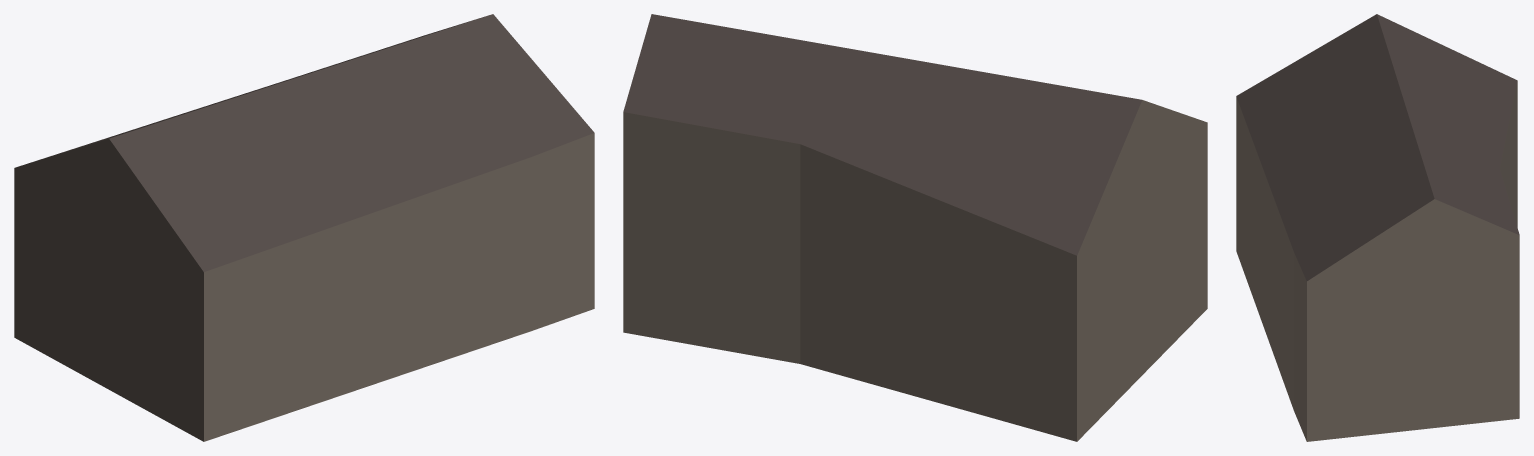
The picture shows the model from 3 angles, left to right: view 1: azimuth 30°, elevation 25°; view 2: azimuth 150°, elevation 25°; view 3: azimuth 270°, elevation 25°; orthographic projection. The views are drawn at different scales.
Parts seen in each view (by area): view 1: HP-w293398943; view 2: HP-w293398943; view 3: HP-w293398943.
Boxes of the visible parts, x1,y1,x2,y2 form: HP-w293398943: [14, 14, 594, 441]; HP-w293398943: [623, 14, 1207, 441]; HP-w293398943: [1236, 14, 1519, 441].
Size of the model in its own units: 17.2 by 8.88 by 9.97.
